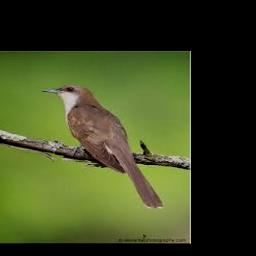Cuckoo: (41, 85, 163, 208)
